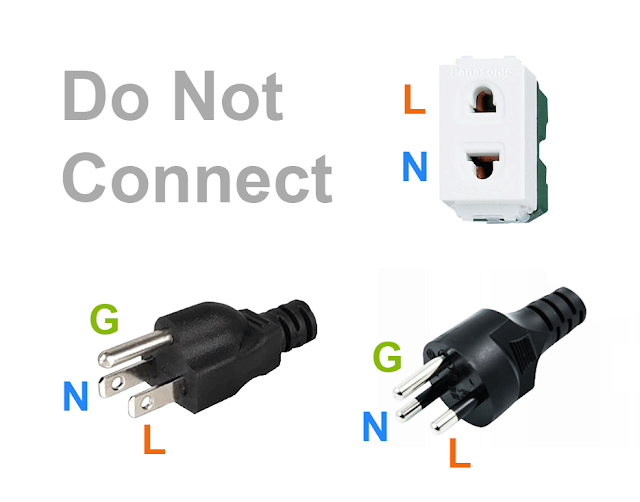Three_eye_plug: (433, 50, 561, 230)
